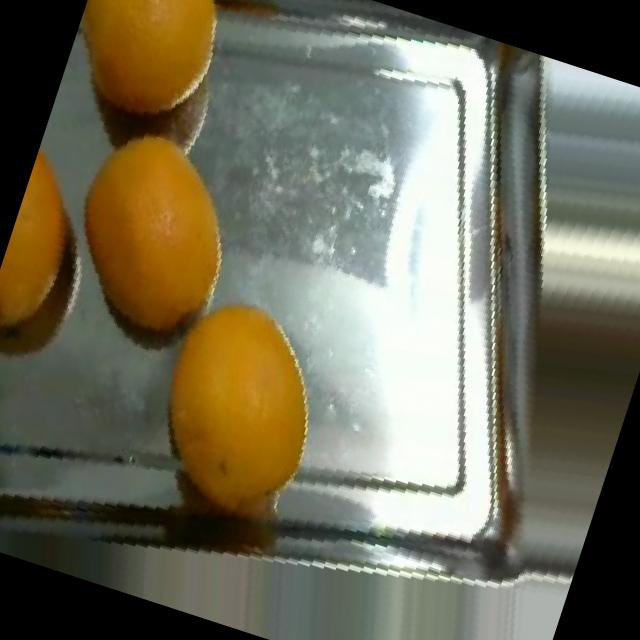Fruit: (47, 0, 274, 177)
